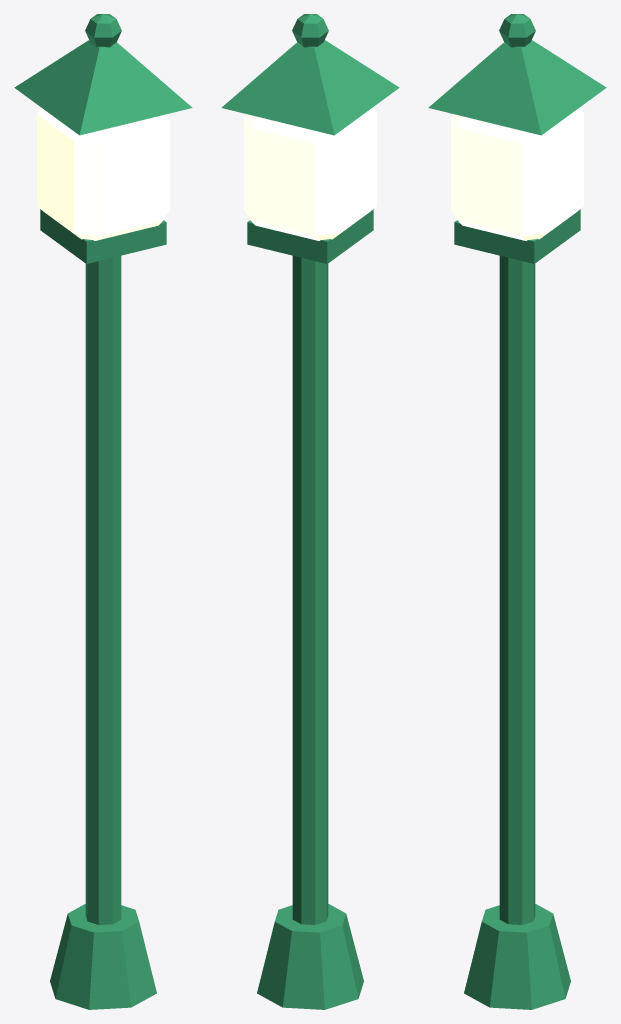
Rendered from prop_lamp_post.glb.
3 views of the same model, side by side, from view 1: azimuth 30°, elevation 25°; view 2: azimuth 150°, elevation 25°; view 3: azimuth 330°, elevation 25° (orthographic).
Parts seen in each view (by area): view 1: prop_lamp_post; view 2: prop_lamp_post; view 3: prop_lamp_post.
Boxes of the visible parts, x1,y1,x2,y2 form: prop_lamp_post: (14,14,192,1009); prop_lamp_post: (221,14,399,1009); prop_lamp_post: (428,14,606,1009).
Bounding box in the file's own units: 0.4243 × 3.49 × 0.4243.
